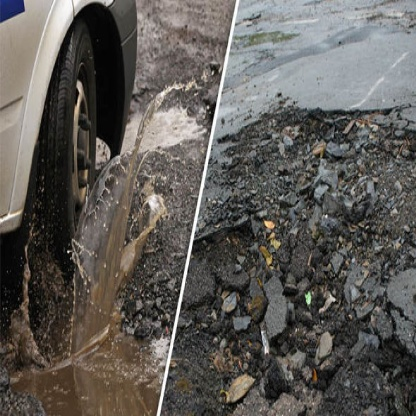pothole: (166, 100, 416, 412)
